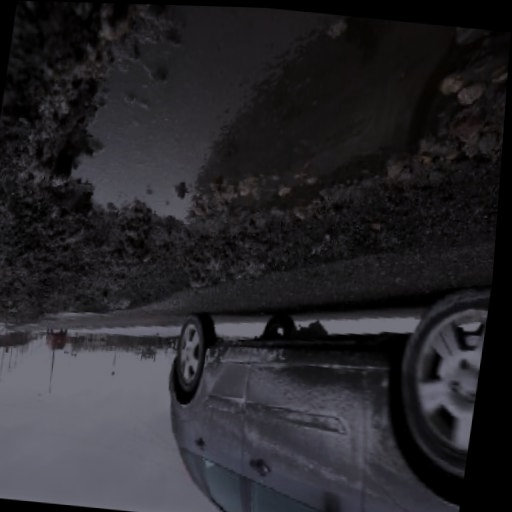pothole: (0, 0, 512, 365)
